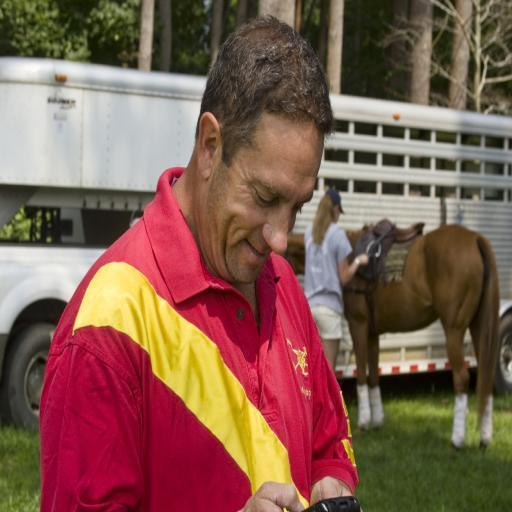horse: (283, 222, 502, 456)
